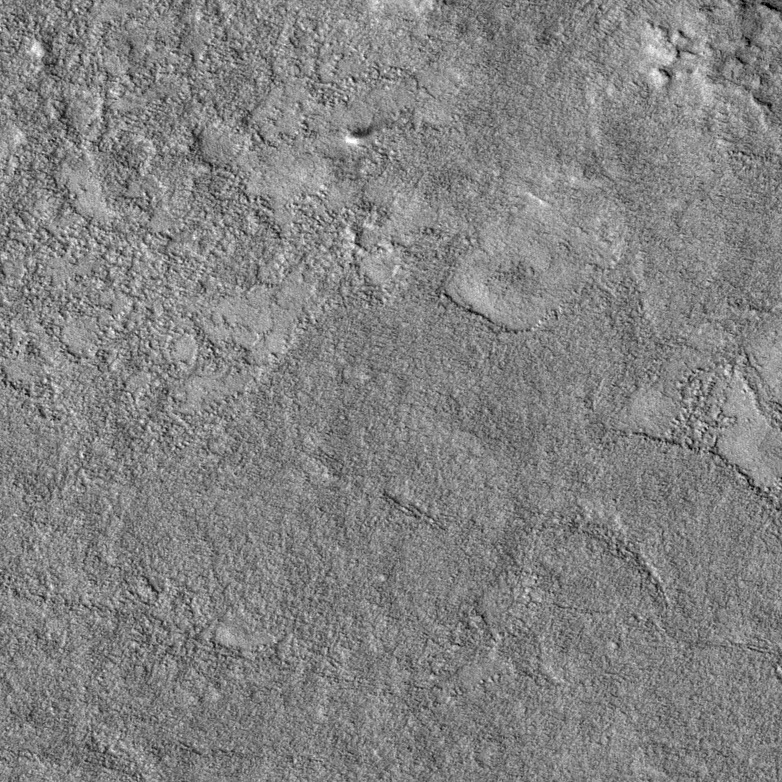dust_devil: (343, 120, 381, 146)
